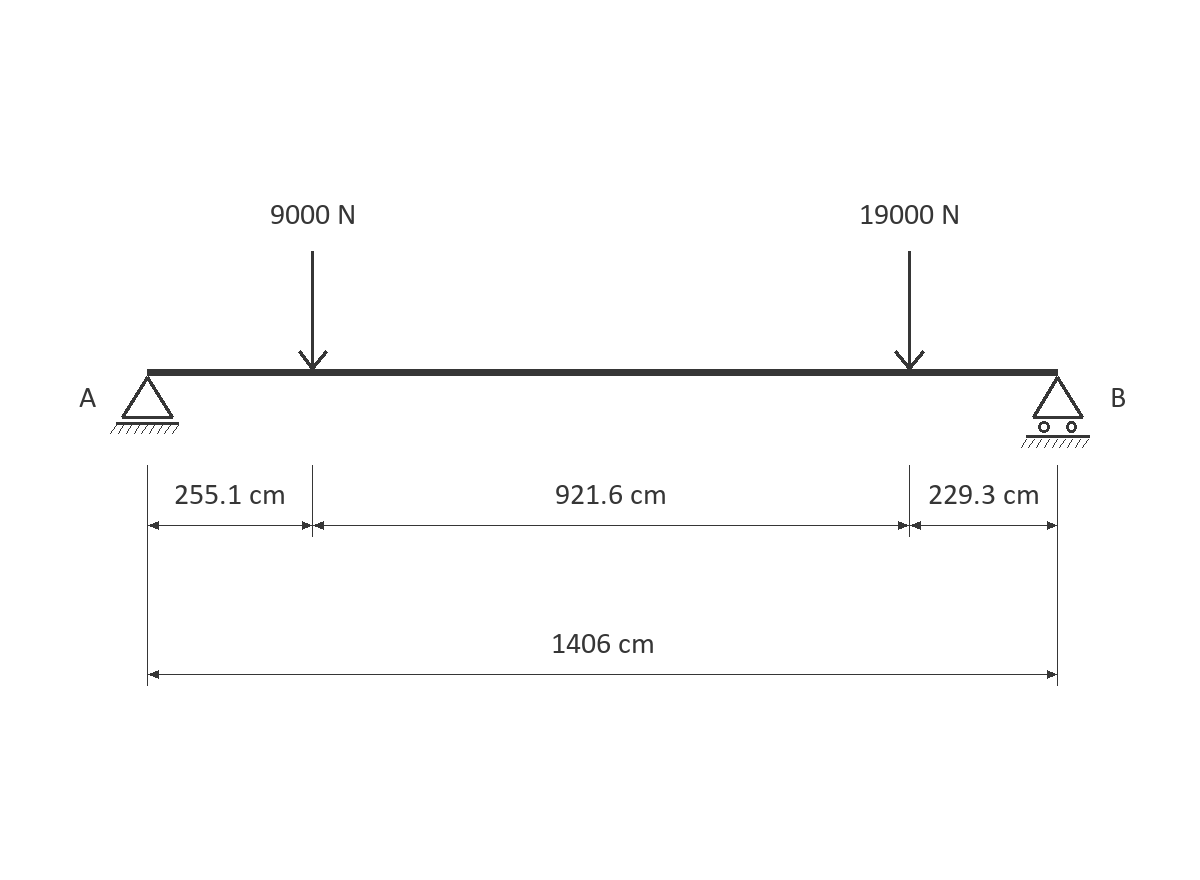pin_support: (110, 376, 179, 434)
point_load: (894, 251, 925, 370), (298, 251, 328, 370)
roller_support: (1021, 376, 1090, 448)
